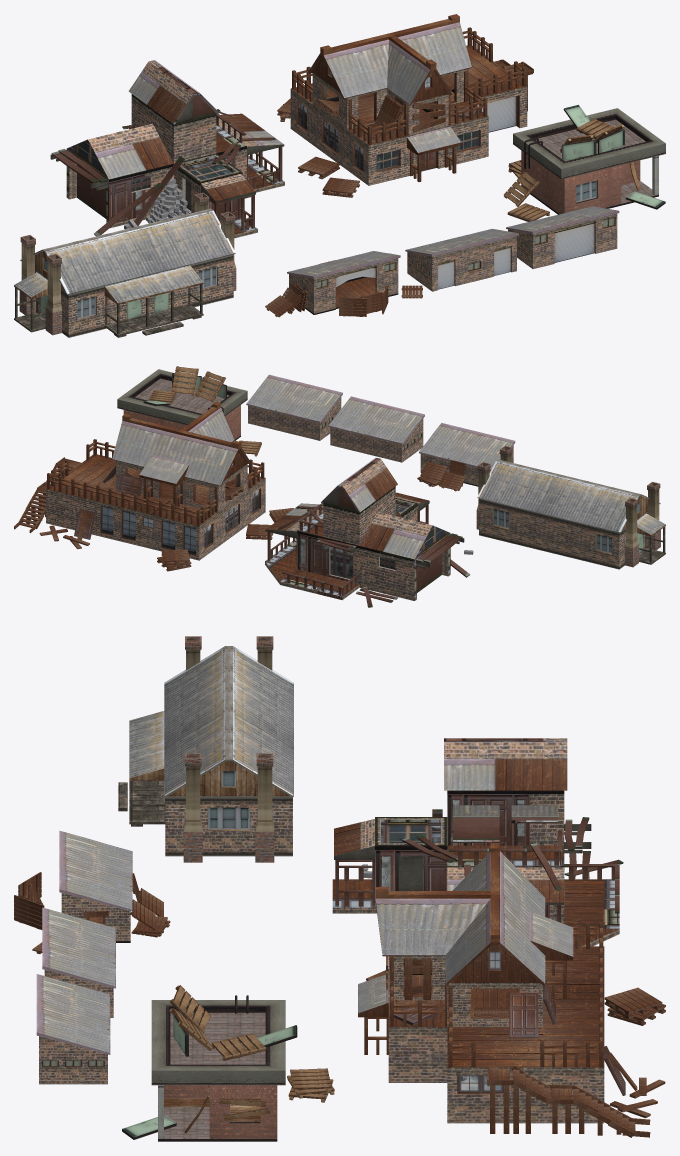
Rendered from building_collection.obj.
3 renders of one model, top to bottom at view 1: azimuth 30°, elevation 25°; view 2: azimuth 150°, elevation 25°; view 3: azimuth 270°, elevation 25°, orthographic. The views are drawn at different scales.
Visible parts, largest first — view 1: group1 Box01_ncl1_1, group1 Box01, Box01_ncl1_2 group1, group1 Box01_ncl1_3, group1 Box03, group1 Box02, group1 Box01_ncl1_4; view 2: group1 Box01_ncl1_1, group1 Box01, Box01_ncl1_2 group1, group1 Box01_ncl1_3, group1 Box02, group1 Box01_ncl1_4, group1 Box03; view 3: group1 Box01_ncl1_1, group1 Box01, Box01_ncl1_2 group1, group1 Box01_ncl1_3, group1 Box03, group1 Box01_ncl1_4, group1 Box02.
Boxes of the visible parts, x1,y1,x2,y2 form: group1 Box01_ncl1_1: (277, 14, 533, 197); group1 Box01: (50, 60, 284, 238); Box01_ncl1_2 group1: (14, 192, 236, 337); group1 Box01_ncl1_3: (504, 104, 665, 221); group1 Box03: (265, 251, 422, 317); group1 Box02: (405, 228, 518, 291); group1 Box01_ncl1_4: (506, 206, 619, 268); group1 Box01_ncl1_1: (14, 401, 293, 571); group1 Box01: (265, 457, 473, 607); Box01_ncl1_2 group1: (476, 446, 665, 569); group1 Box01_ncl1_3: (117, 366, 261, 456); group1 Box02: (328, 396, 424, 462); group1 Box01_ncl1_4: (246, 374, 342, 440); group1 Box03: (417, 423, 515, 491); group1 Box01_ncl1_1: (358, 843, 665, 1137); group1 Box01: (332, 738, 623, 946); Box01_ncl1_2 group1: (118, 636, 293, 862); group1 Box01_ncl1_3: (122, 985, 334, 1141); group1 Box03: (14, 830, 170, 953); group1 Box01_ncl1_4: (36, 974, 110, 1084); group1 Box02: (42, 907, 115, 1017).
Size of the model in its own units: 174 by 31.61 by 116.
